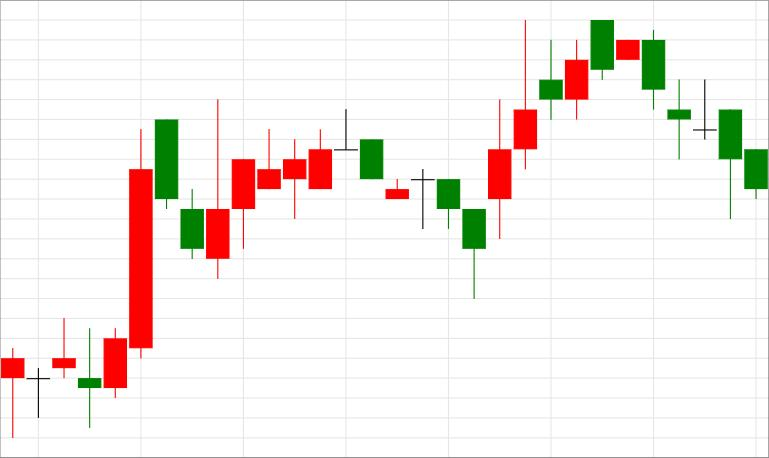hammer_rise: (591, 20, 743, 218), (334, 109, 485, 299)
